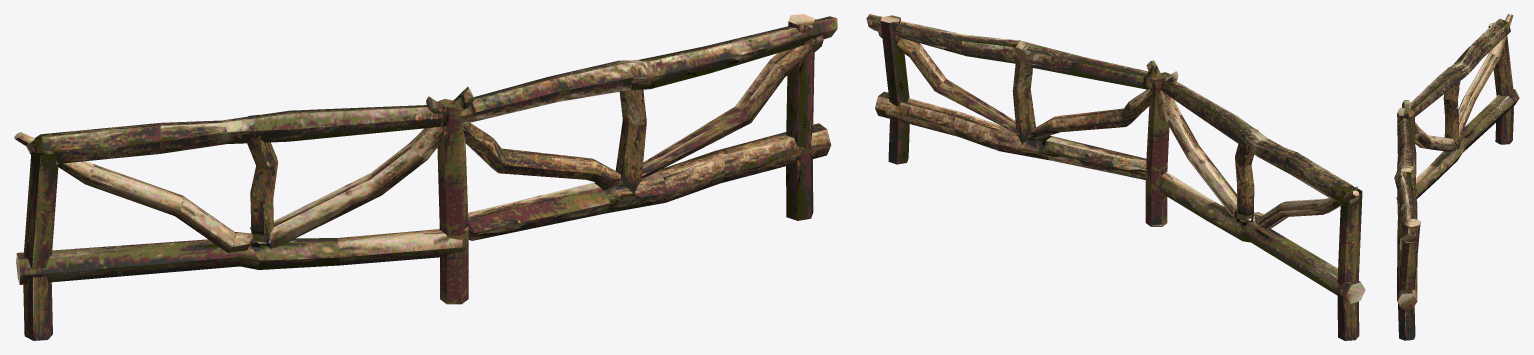
File: Fence_var3.fbx
The picture shows the model from 3 angles, left to right: view 1: azimuth 30°, elevation 25°; view 2: azimuth 150°, elevation 25°; view 3: azimuth 270°, elevation 25°; orthographic projection. The views are drawn at different scales.
Visible parts, largest first — view 1: Fence; view 2: Fence; view 3: Fence.
Part boxes in pixels (x1,y1,x2,y2): Fence: (14,14,837,340); Fence: (866,14,1365,340); Fence: (1394,14,1519,340).
Bounding box in the file's own units: 505 × 146 × 121.
Materials: 1 (1 with a texture image).
